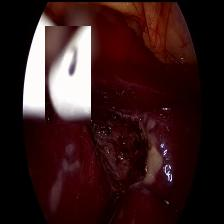Bipolar: (44, 25, 90, 123)
